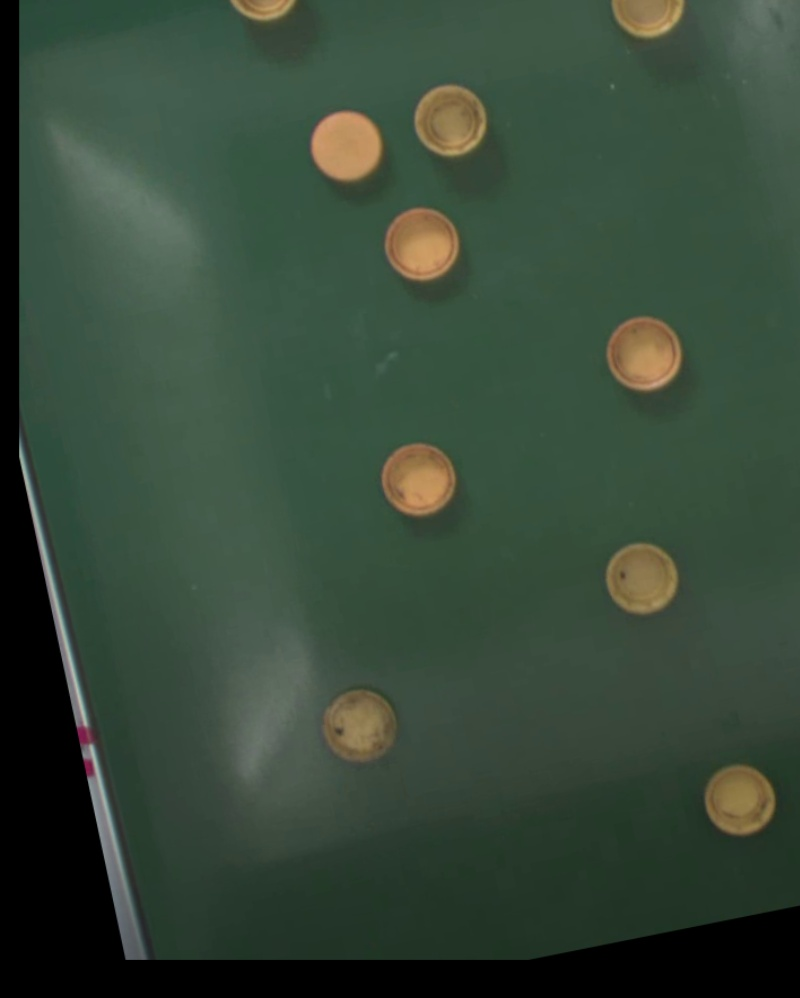Others: (378, 200, 467, 288), (600, 310, 689, 398), (314, 683, 404, 770), (696, 755, 784, 843), (598, 536, 686, 622), (374, 438, 463, 523), (408, 79, 495, 164), (303, 103, 391, 187), (604, 0, 692, 46), (218, 0, 307, 29)
